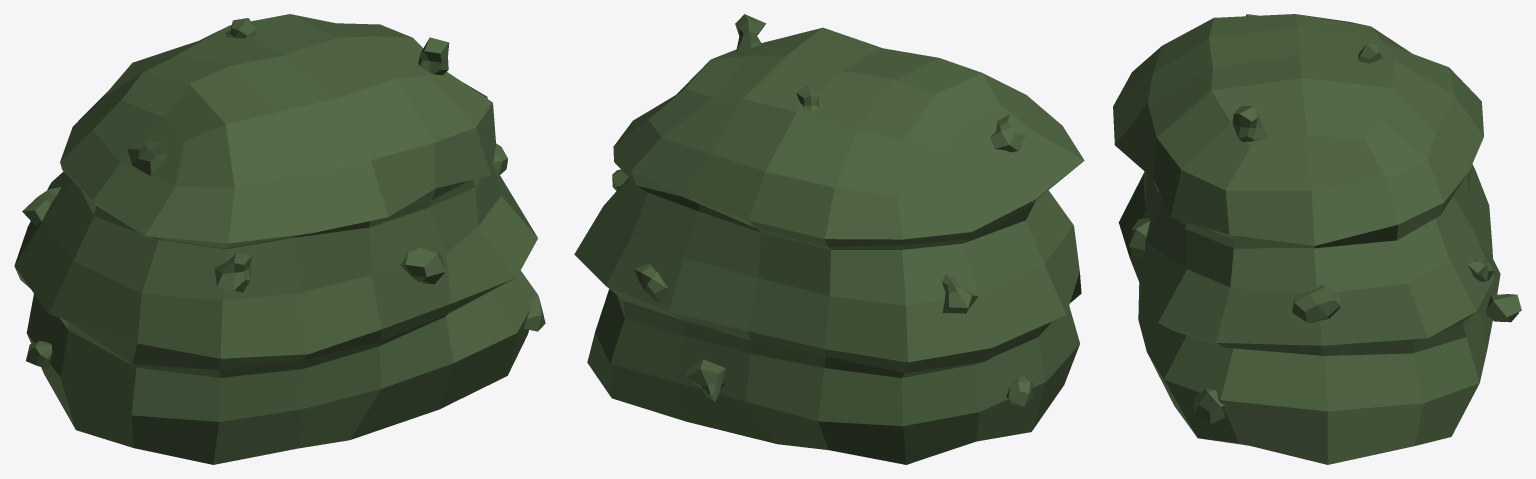
Rendered from BushBerries_4.glb.
The picture shows the model from 3 angles, left to right: view 1: azimuth 30°, elevation 25°; view 2: azimuth 150°, elevation 25°; view 3: azimuth 270°, elevation 25°; orthographic projection. The views are drawn at different scales.
Parts seen in each view (by area): view 1: BushBerries_4_Cube.044; view 2: BushBerries_4_Cube.044; view 3: BushBerries_4_Cube.044.
Boxes of the visible parts, x1=… form: BushBerries_4_Cube.044: x1=14, y1=14, x2=545, y2=464; BushBerries_4_Cube.044: x1=574, y1=14, x2=1084, y2=464; BushBerries_4_Cube.044: x1=1113, y1=14, x2=1521, y2=464.
Size of the model in its own units: 1.72 by 1.28 by 1.39.
